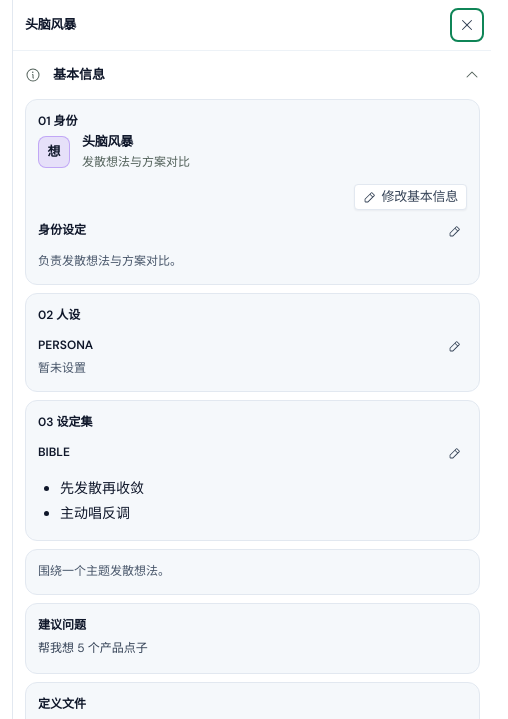
Test: ConfigPanel 三上下文卡片 › 分段编辑保存只 PATCH 拼回后的 body，其余段逐字节保留
Expected: the text "01 身份" is shown, [38,113,78,129]
Click the button named "修改人设" at (454, 346), box [441,333,467,359]
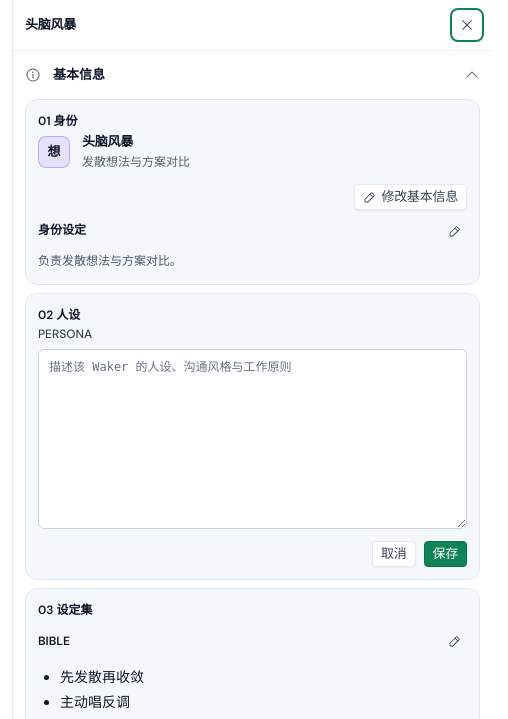
Type "直接、简洁，偶尔唱反调。" into the text box named "人设内容" at (252, 439), box [38,349,467,529]
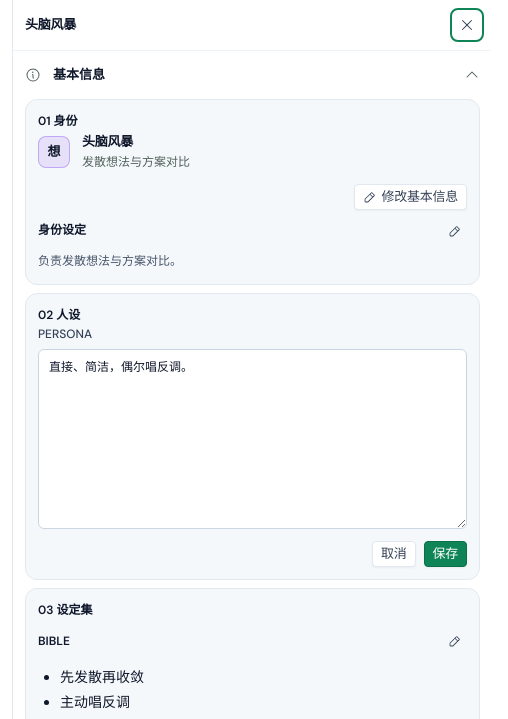
Click the button "保存" at (445, 554), box [424,541,467,567]
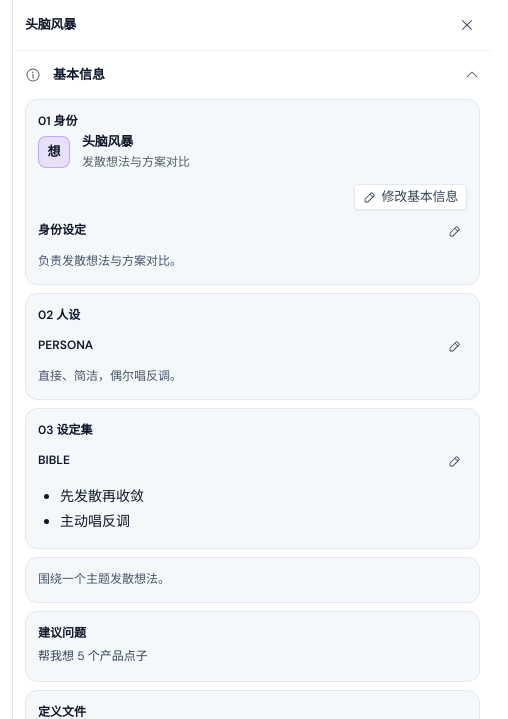
Expected: the text "直接、简洁，偶尔唱反调。" is shown, [38,368,182,384]
